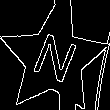N_S: (26, 28, 81, 91)
